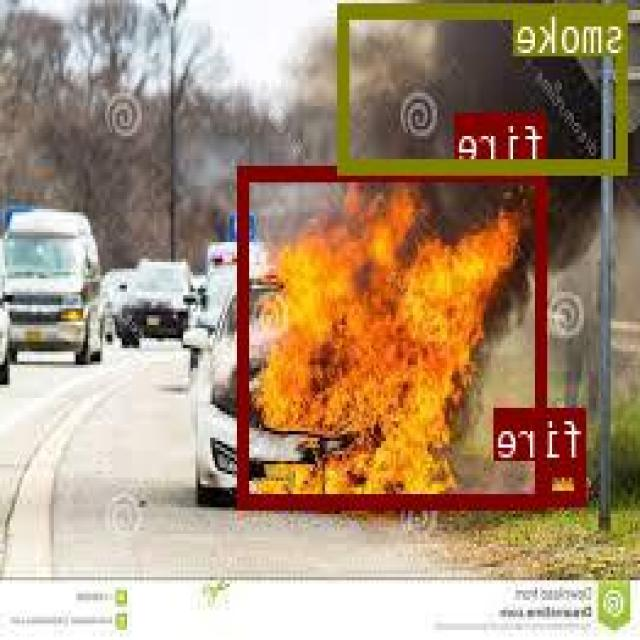fire: (242, 165, 548, 507), (543, 460, 588, 501)
smoke: (341, 2, 630, 170)
